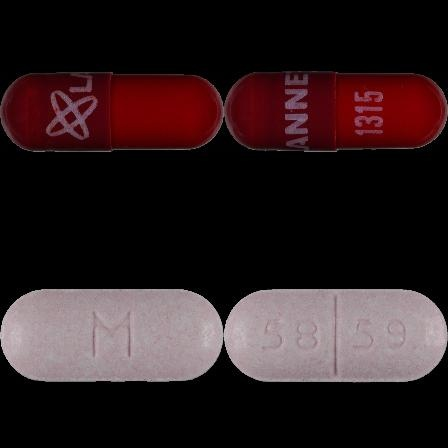42254-039: (0, 0, 224, 224)
